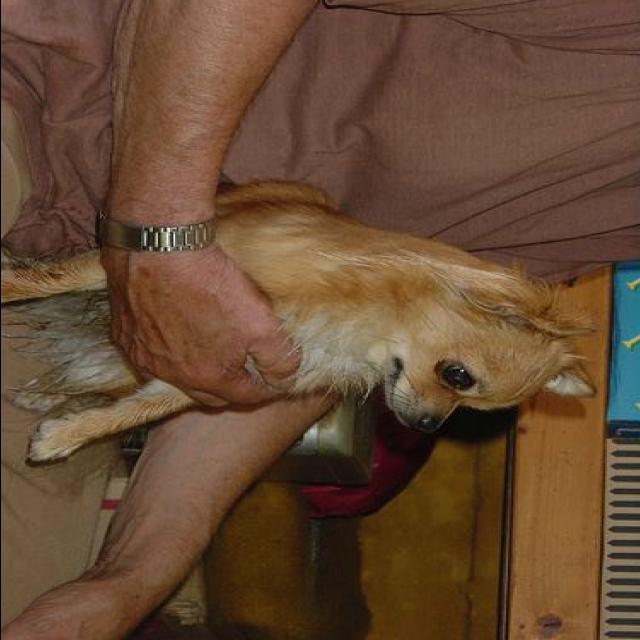chihuahua: (3, 178, 599, 468)
